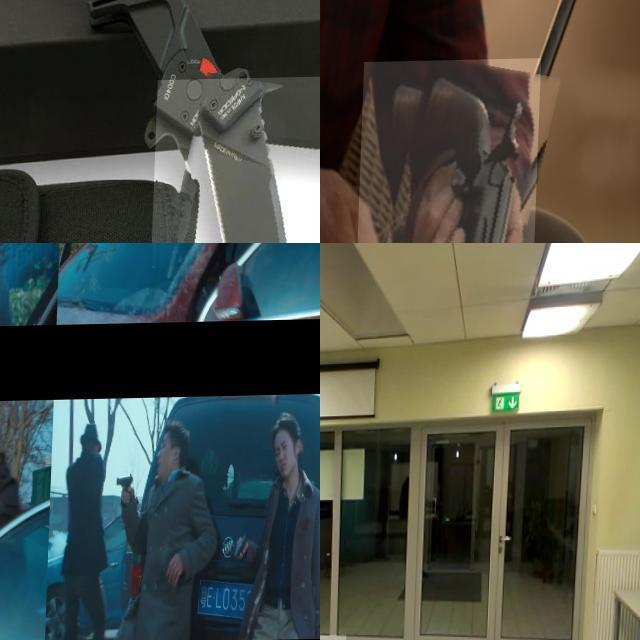-: (149, 78, 320, 243)
gun-knife-thesis - v11 Yolov5 augmented: (352, 60, 542, 243), (0, 243, 34, 277), (192, 243, 224, 272), (0, 447, 14, 510), (116, 470, 138, 506), (60, 243, 88, 262), (234, 535, 252, 562), (0, 507, 12, 544)
